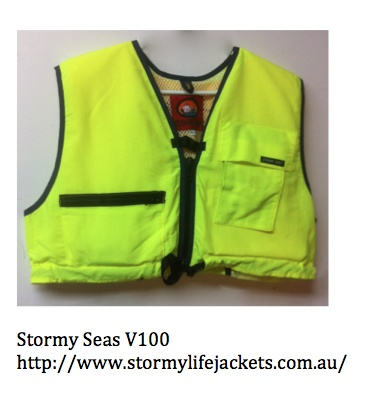safety vest: (30, 46, 315, 290)
